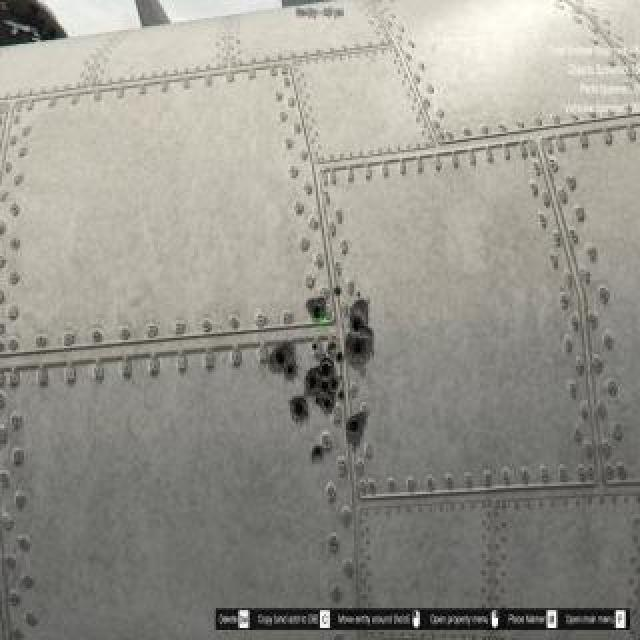crack: (348, 306, 372, 364), (272, 347, 300, 379), (306, 367, 334, 393), (348, 421, 368, 447), (292, 403, 312, 423), (307, 301, 327, 317), (309, 445, 327, 459)
